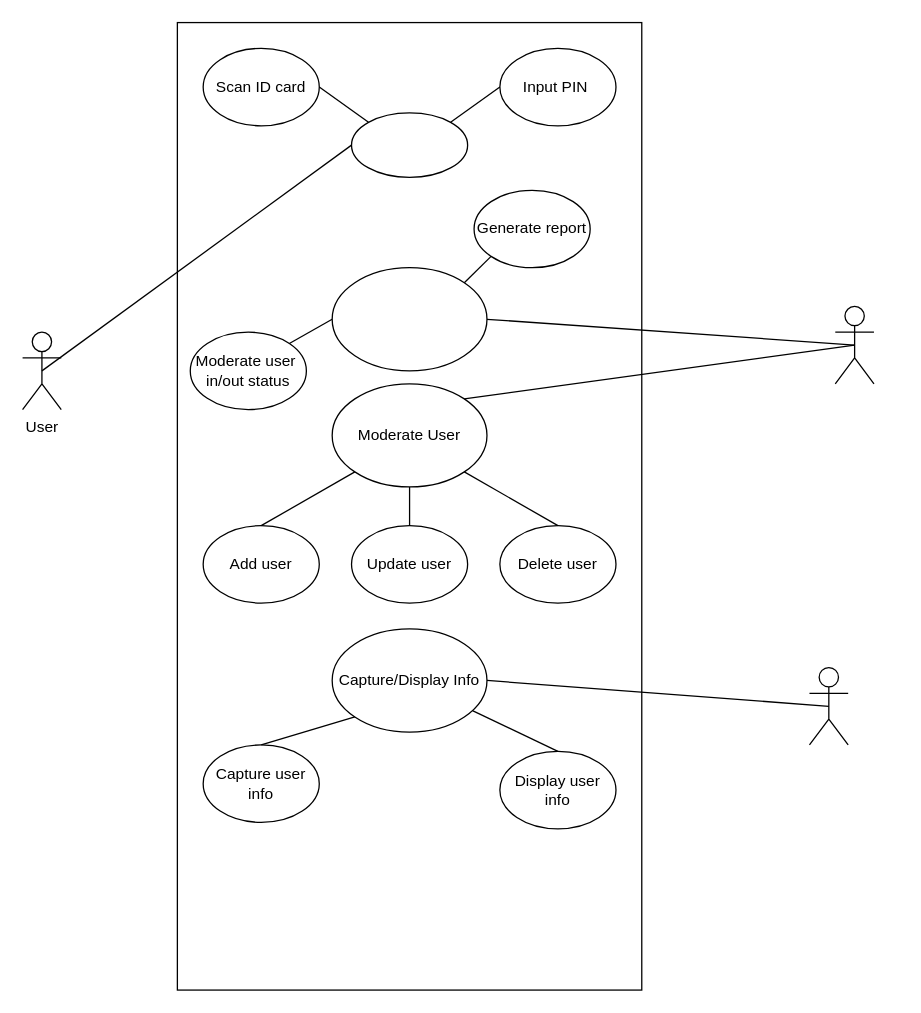
This 921x1013 diagram has some shape labels left out. Each missing label, with the centre of its shape:
Adminstrator: (x=854, y=344)
Moderate user activity: (x=409, y=318)
System: (x=828, y=705)
Verify Identity: (x=409, y=144)
